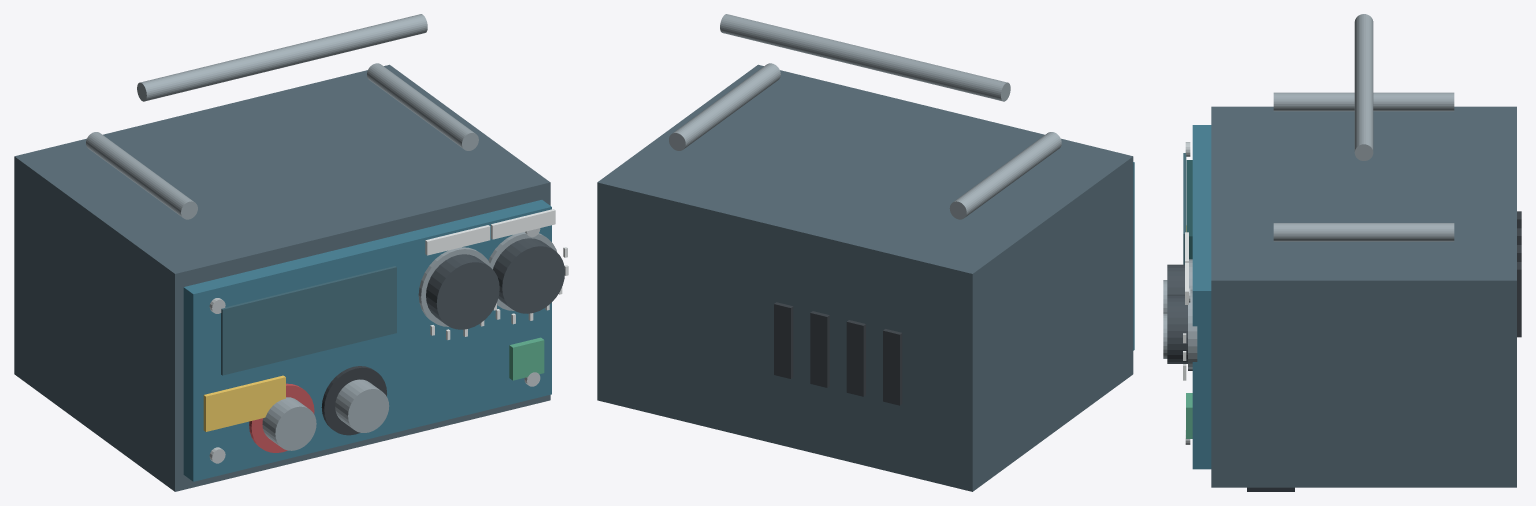
Rendered from power_supply_lod1.glb.
The picture shows the model from 3 angles, left to right: view 1: azimuth 30°, elevation 25°; view 2: azimuth 150°, elevation 25°; view 3: azimuth 270°, elevation 25°; orthographic projection. The views are drawn at different scales.
Visible parts, largest first — view 1: PSU_BODY_MAT_METAL_DARK, PSU_FRONT_MAT_POLYMER_BLUE, PSU_SCREEN_GLASS_MAT_SCREEN_GLASS, HANDLE_TOP_MAT_METAL_BRUSHED, KNOB_VOLTAGE_MAT_POLYMER_BLACK, KNOB_CURRENT_MAT_POLYMER_BLACK, PSU_WARNING_LABEL_MAT_WARNING, HANDLE_RIGHT_MAT_METAL_BRUSHED, HANDLE_LEFT_MAT_METAL_BRUSHED, OUTPUT_NEG_MAT_METAL_BRUSHED, OUTPUT_POS_MAT_METAL_BRUSHED, OUTPUT_NEG_INSULATOR_MAT_BLACK (+6 smaller); view 2: PSU_BODY_MAT_METAL_DARK, HANDLE_TOP_MAT_METAL_BRUSHED, HANDLE_LEFT_MAT_METAL_BRUSHED, HANDLE_RIGHT_MAT_METAL_BRUSHED, VENT_0_MAT_BLACK, VENT_1_MAT_BLACK, VENT_2_MAT_BLACK, VENT_3_MAT_BLACK; view 3: PSU_BODY_MAT_METAL_DARK, PSU_FRONT_MAT_POLYMER_BLUE, HANDLE_RIGHT_MAT_METAL_BRUSHED, HANDLE_LEFT_MAT_METAL_BRUSHED, HANDLE_TOP_MAT_METAL_BRUSHED, KNOB_CURRENT_MAT_POLYMER_BLACK, PSU_SCREEN_MAT_EMISSIVE_SCREEN, KNOB_VOLTAGE_MAT_POLYMER_BLACK, KNOB_RING_1_MAT_METAL_BRUSHED.
Part boxes in pixels (x1,y1,x2,y2): PSU_BODY_MAT_METAL_DARK: (14,64,550,491); PSU_FRONT_MAT_POLYMER_BLUE: (183,200,551,481); PSU_SCREEN_GLASS_MAT_SCREEN_GLASS: (221,266,396,375); HANDLE_TOP_MAT_METAL_BRUSHED: (137,14,427,101); KNOB_VOLTAGE_MAT_POLYMER_BLACK: (426,254,499,329); KNOB_CURRENT_MAT_POLYMER_BLACK: (493,238,564,313); PSU_WARNING_LABEL_MAT_WARNING: (203,375,285,431); HANDLE_RIGHT_MAT_METAL_BRUSHED: (367,63,478,150); HANDLE_LEFT_MAT_METAL_BRUSHED: (86,132,197,219); OUTPUT_NEG_MAT_METAL_BRUSHED: (335,379,389,432); OUTPUT_POS_MAT_METAL_BRUSHED: (262,397,316,450); OUTPUT_NEG_INSULATOR_MAT_BLACK: (321,366,386,435); PSU_BODY_MAT_METAL_DARK: (597,64,1133,491); HANDLE_TOP_MAT_METAL_BRUSHED: (720,14,1010,101); HANDLE_LEFT_MAT_METAL_BRUSHED: (949,132,1061,219); HANDLE_RIGHT_MAT_METAL_BRUSHED: (669,63,780,150); VENT_0_MAT_BLACK: (883,329,902,405); VENT_1_MAT_BLACK: (846,320,865,396); VENT_2_MAT_BLACK: (810,311,829,387); VENT_3_MAT_BLACK: (774,302,793,378); PSU_BODY_MAT_METAL_DARK: (1211,106,1516,487); PSU_FRONT_MAT_POLYMER_BLUE: (1192,125,1211,469); HANDLE_RIGHT_MAT_METAL_BRUSHED: (1273,223,1454,241); HANDLE_LEFT_MAT_METAL_BRUSHED: (1273,92,1454,111); HANDLE_TOP_MAT_METAL_BRUSHED: (1354,14,1373,160); KNOB_CURRENT_MAT_POLYMER_BLACK: (1167,295,1187,363); PSU_SCREEN_MAT_EMISSIVE_SCREEN: (1186,160,1192,259); KNOB_VOLTAGE_MAT_POLYMER_BLACK: (1167,264,1184,294); KNOB_RING_1_MAT_METAL_BRUSHED: (1188,289,1197,369).
Bounding box in the file's own units: 1.56 × 1.38 × 1.35.
